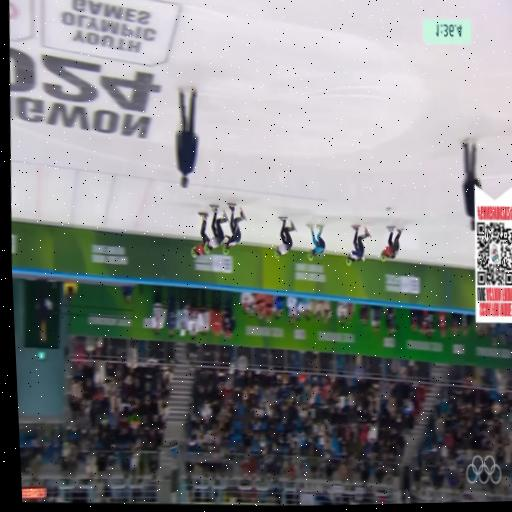Skater: (223, 203, 246, 254), (204, 205, 228, 252), (346, 224, 370, 264), (274, 217, 295, 257), (381, 226, 403, 261), (191, 213, 208, 257), (307, 223, 325, 259)
